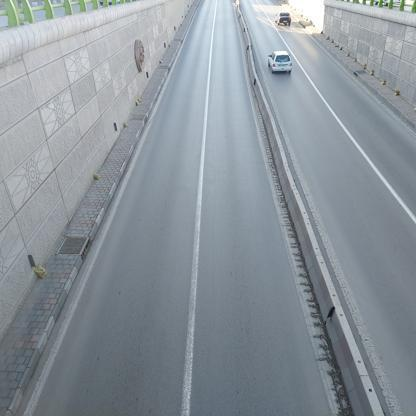Car: (268, 51, 292, 80), (275, 13, 292, 30)
